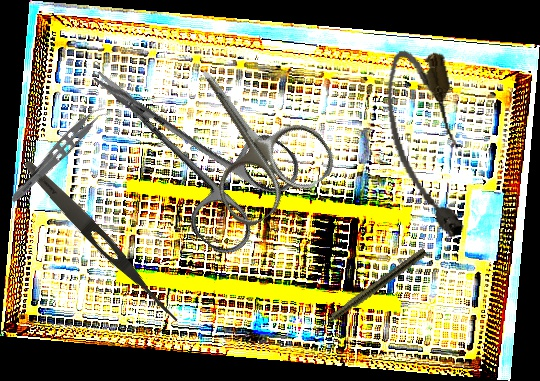Cannula: (377, 43, 477, 247)
Dressing Forceps: (19, 156, 185, 327)
Handpiece: (309, 246, 428, 337)
Iris Scissors: (57, 22, 310, 263), (156, 37, 342, 233)
Tissue Forceps: (7, 99, 112, 212)
